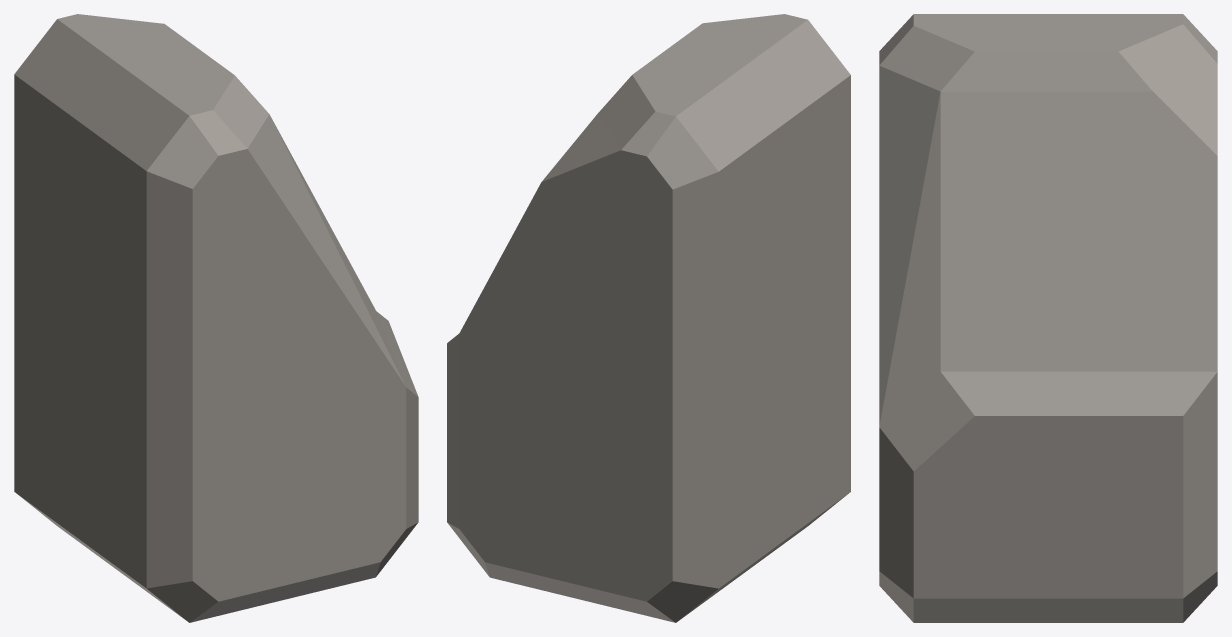
File: Brick 06.FBX
The picture shows the model from 3 angles, left to right: view 1: azimuth 30°, elevation 25°; view 2: azimuth 150°, elevation 25°; view 3: azimuth 270°, elevation 25°; orthographic projection.
Visible parts, largest first — view 1: Brick 06; view 2: Brick 06; view 3: Brick 06.
Boxes of the visible parts, x1,y1,x2,y2 form: Brick 06: [14, 14, 418, 622]; Brick 06: [447, 14, 850, 622]; Brick 06: [879, 14, 1217, 622].
Bounding box in the file's own units: 33.5 × 59.65 × 35.42.
Materials: 1 (1 with a texture image).
